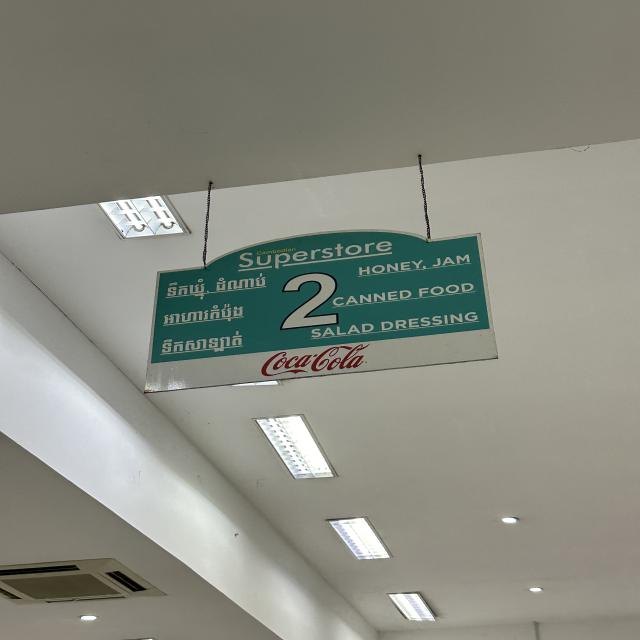631: (270, 268, 347, 331)
Yolov11kh: (159, 270, 269, 301), (155, 328, 252, 360), (160, 301, 255, 330)
